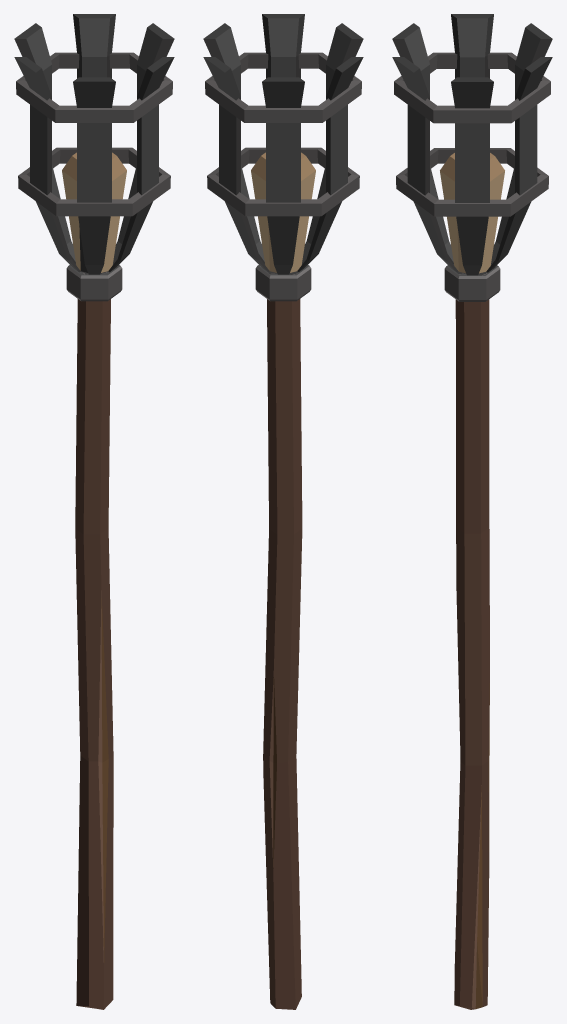
Rendered from Torch_01.glb.
3 renders of one model, left to right at view 1: azimuth 30°, elevation 25°; view 2: azimuth 150°, elevation 25°; view 3: azimuth 270°, elevation 25°, orthographic.
Visible parts, largest first — view 1: Torch_01; view 2: Torch_01; view 3: Torch_01.
Boxes of the visible parts, <box> form: Torch_01: <box>14,14,174,1009</box>; Torch_01: <box>203,14,363,1009</box>; Torch_01: <box>392,14,552,1009</box>.
Size of what is drawn, in the model's own units: 0.2394 by 1.58 by 0.2396.
Materials: 1 (1 with a texture image).
